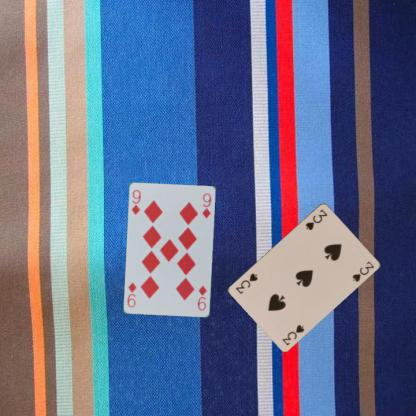3s: (303, 206, 328, 231), (280, 322, 306, 346)
9d: (195, 283, 208, 312), (129, 187, 142, 216)
